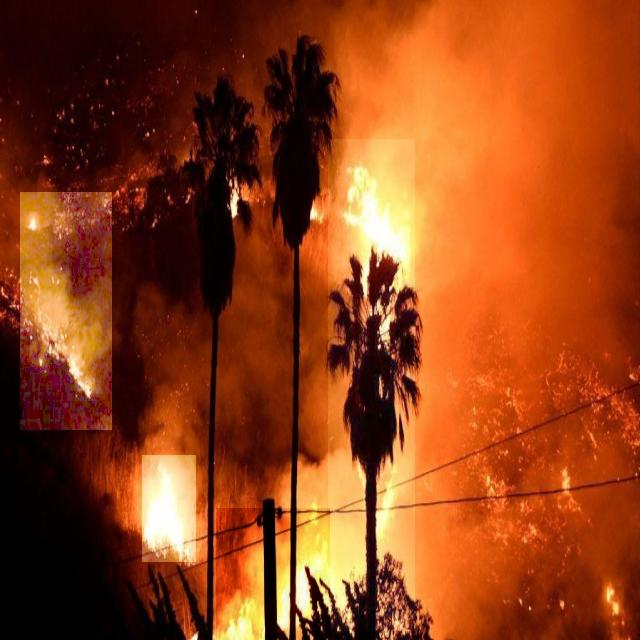Fire: (328, 139, 415, 631), (21, 192, 112, 430), (217, 508, 331, 640), (142, 455, 196, 562)
